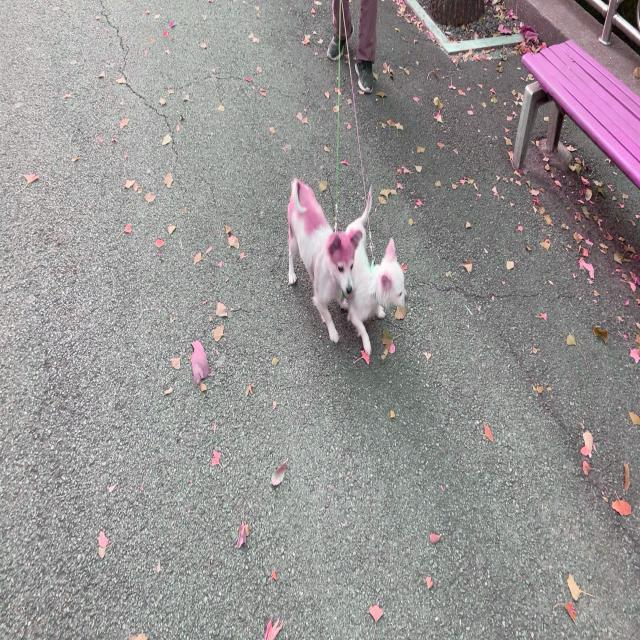Leashed_Dog: (286, 0, 410, 357)
